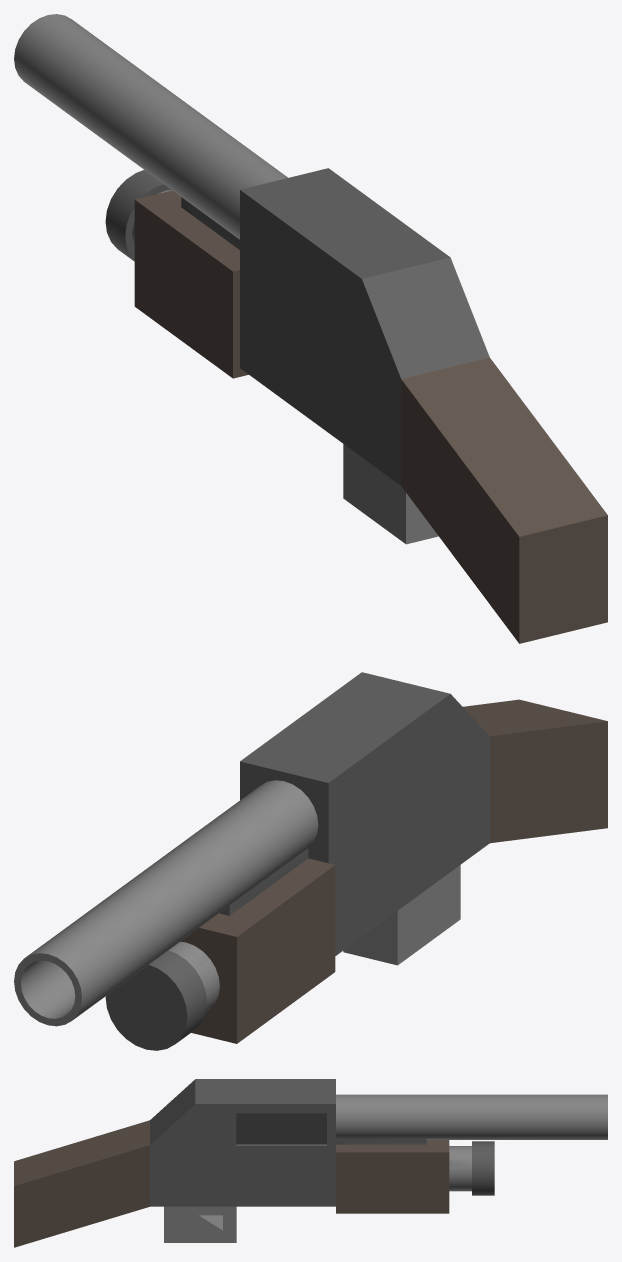
File: shotgun.glb
3 renders of one model, top to bottom at view 1: azimuth 30°, elevation 25°; view 2: azimuth 150°, elevation 25°; view 3: azimuth 270°, elevation 25°, orthographic. The views are drawn at different scales.
Visible parts, largest first — view 1: mergedBlocks(Clone); view 2: mergedBlocks(Clone); view 3: mergedBlocks(Clone).
Part boxes in pixels (x1=…): mergedBlocks(Clone): x1=14, y1=14, x2=607, y2=643; mergedBlocks(Clone): x1=14, y1=672, x2=607, y2=1050; mergedBlocks(Clone): x1=14, y1=1079, x2=607, y2=1247.
Size of the model in its own units: 0.009 by 0.021 by 0.0786.
